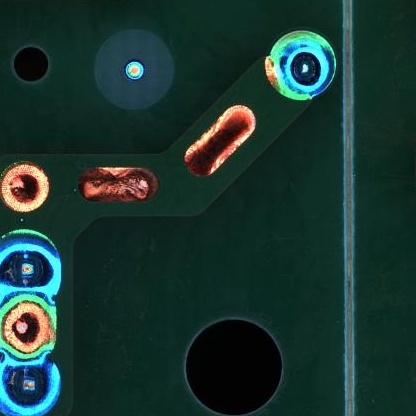spot: (270, 33, 336, 101), (1, 229, 62, 295), (1, 357, 62, 413)
